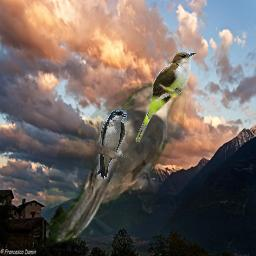Cuckoo: (46, 83, 186, 247), (135, 51, 196, 142)
Swallow: (97, 110, 127, 179)
